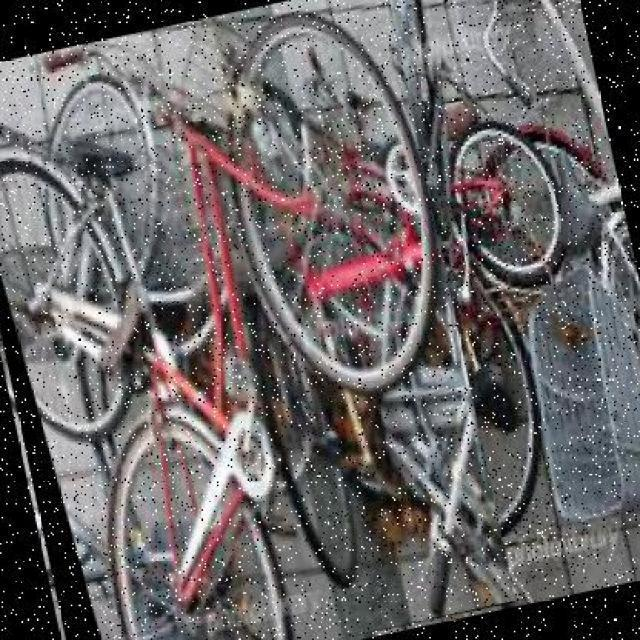bicycle: (1, 1, 519, 639)
